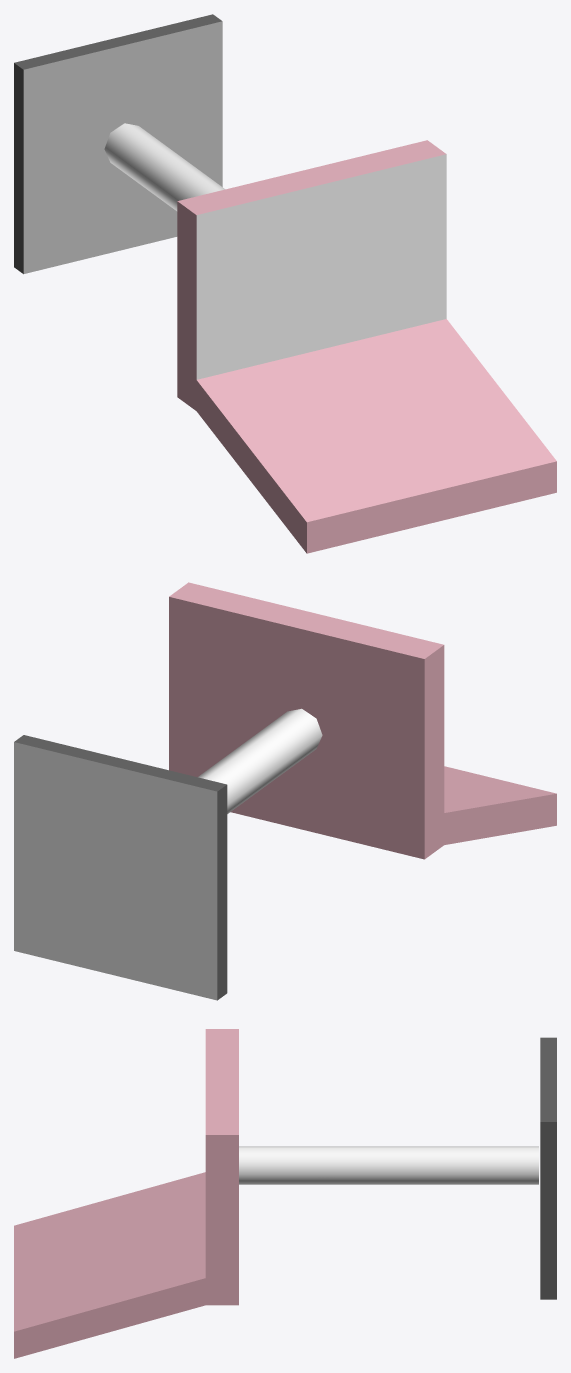
The model's file is Kitchen_Bar_Chair2_Pink.fbx.
The picture shows the model from 3 angles, top to bottom: view 1: azimuth 30°, elevation 25°; view 2: azimuth 150°, elevation 25°; view 3: azimuth 270°, elevation 25°; orthographic projection. The views are drawn at different scales.
Visible parts, largest first — view 1: Kitchen_Bar_Chair2_Pink; view 2: Kitchen_Bar_Chair2_Pink; view 3: Kitchen_Bar_Chair2_Pink.
Boxes of the visible parts, x1,y1,x2,y2 form: Kitchen_Bar_Chair2_Pink: (14,14,556,553); Kitchen_Bar_Chair2_Pink: (14,582,556,1000); Kitchen_Bar_Chair2_Pink: (14,1029,556,1358).
Size of the model in its own units: 41.57 by 40.94 by 89.97.
